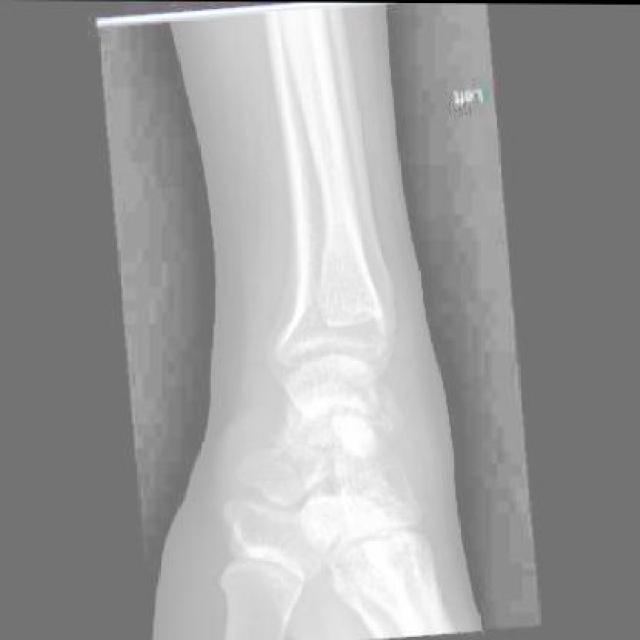Fracture: (346, 384, 408, 444)
